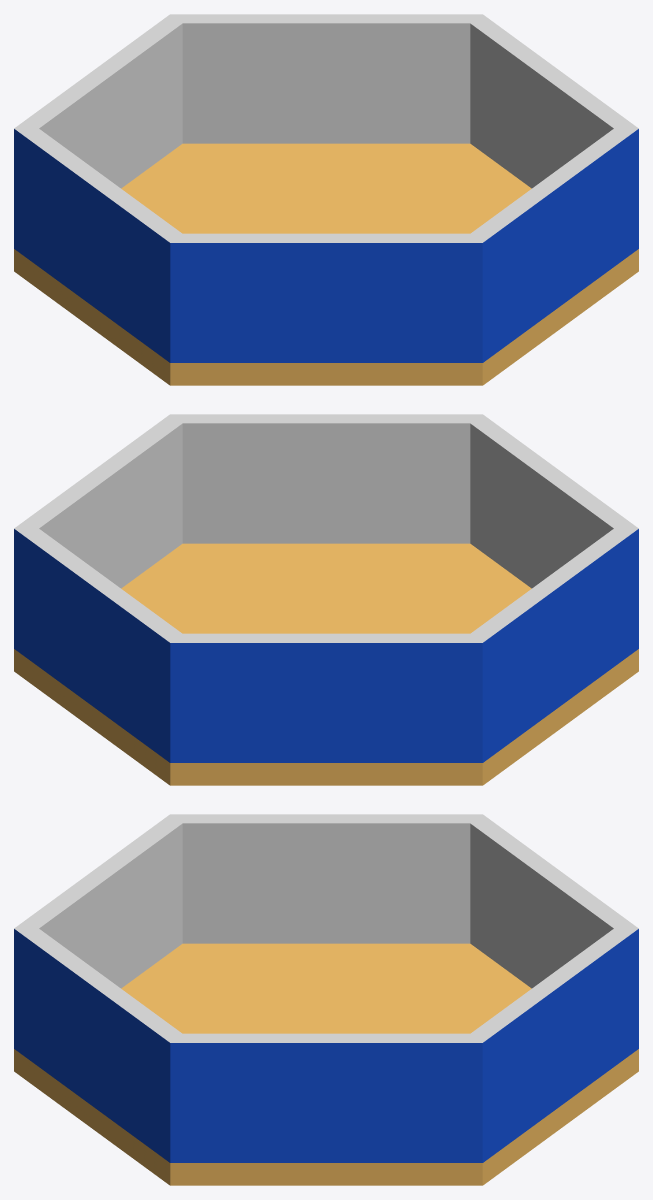
File: honeycomb.fbx
The picture shows the model from 3 angles, top to bottom: view 1: azimuth 30°, elevation 25°; view 2: azimuth 150°, elevation 25°; view 3: azimuth 270°, elevation 25°; orthographic projection.
Parts seen in each view (by area): view 1: HexFloor; view 2: HexFloor; view 3: HexFloor.
Part boxes in pixels (x1,y1,x2,y2): HexFloor: [14, 14, 638, 385]; HexFloor: [14, 414, 638, 785]; HexFloor: [14, 814, 638, 1185].
Bounding box in the file's own units: 86.6 × 25.22 × 100.
